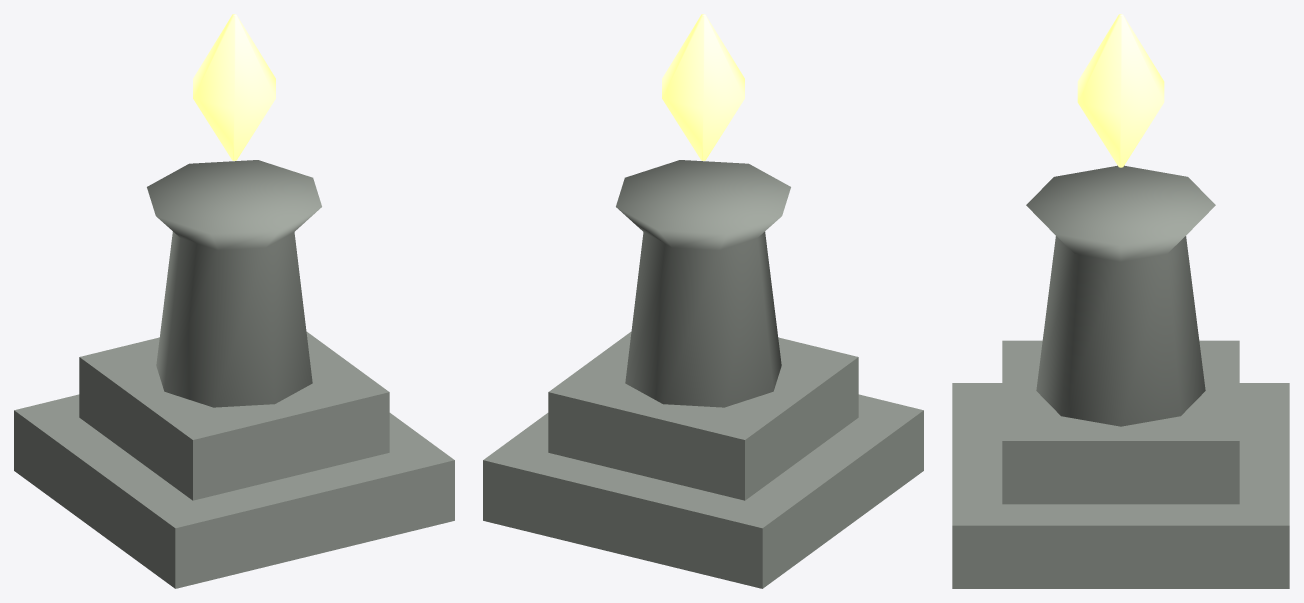
File: ancient_shrine.glb
The picture shows the model from 3 angles, left to right: view 1: azimuth 30°, elevation 25°; view 2: azimuth 150°, elevation 25°; view 3: azimuth 270°, elevation 25°; orthographic projection. The views are drawn at different scales.
Parts seen in each view (by area): view 1: ShrinePedestal, ShrineRuneCrystal; view 2: ShrinePedestal, ShrineRuneCrystal; view 3: ShrinePedestal, ShrineRuneCrystal.
Boxes of the visible parts, <box> form: ShrinePedestal: <box>14,160,454,588</box>; ShrineRuneCrystal: <box>193,14,275,160</box>; ShrinePedestal: <box>483,160,923,588</box>; ShrineRuneCrystal: <box>662,14,744,160</box>; ShrinePedestal: <box>952,165,1289,588</box>; ShrineRuneCrystal: <box>1077,14,1164,167</box>.
Size of the model in its own units: 1.35 by 2.22 by 1.35.
